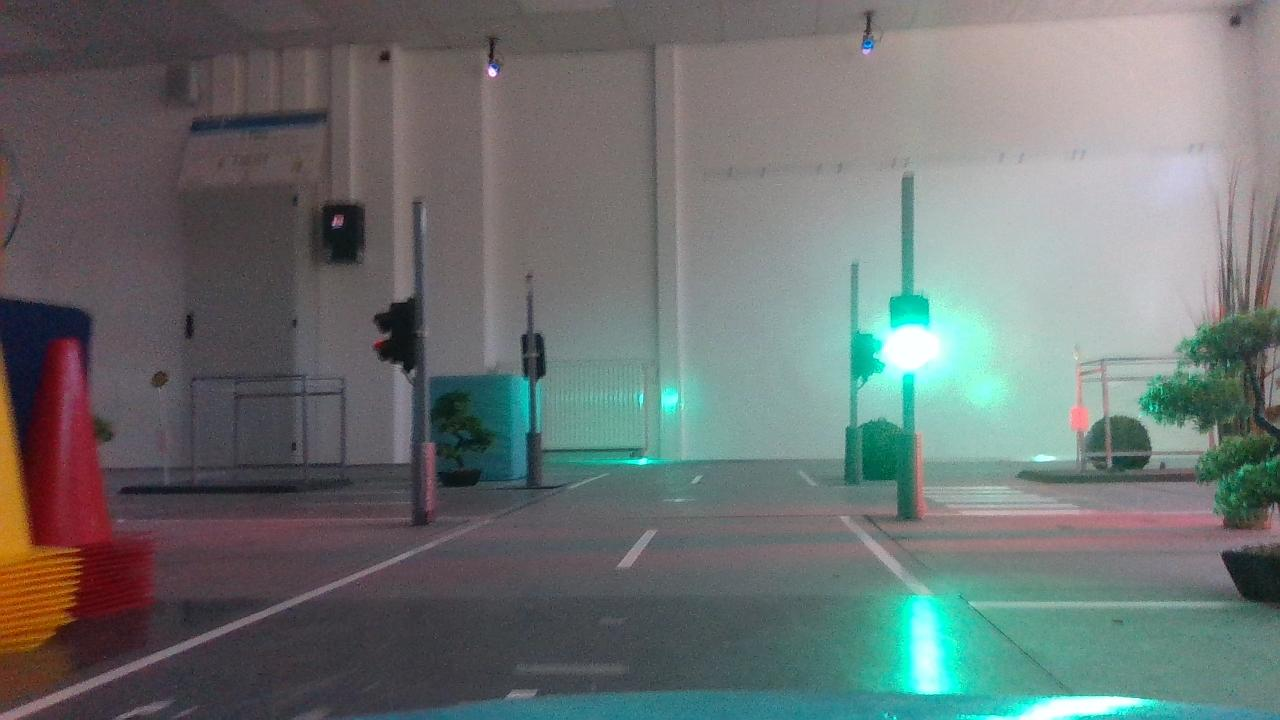traffic_light_green: (873, 285, 953, 389)
